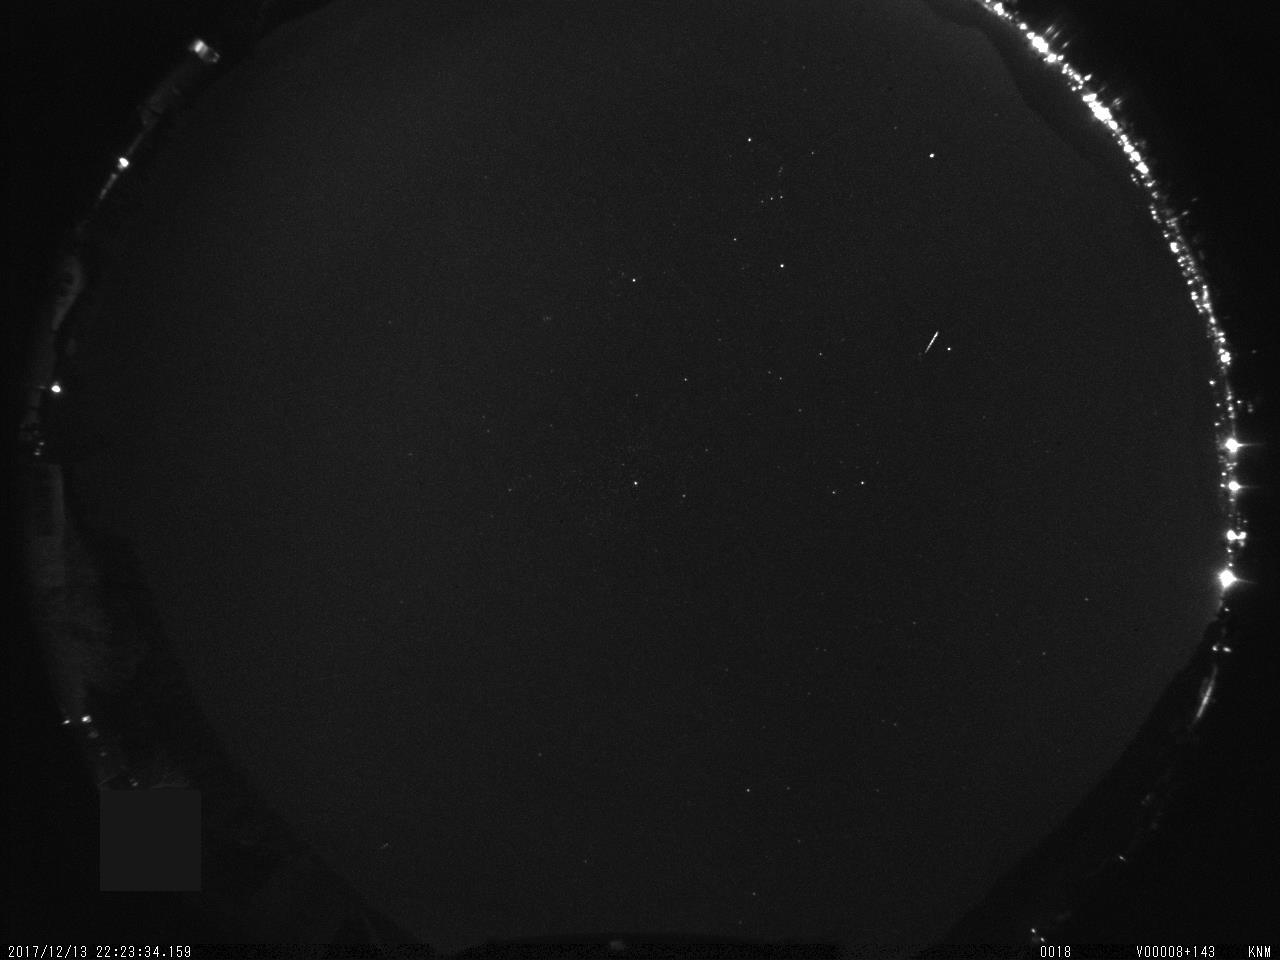meteor: (901, 323, 943, 360)
